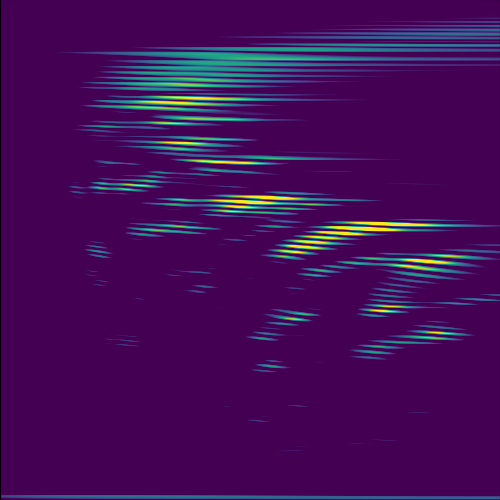semblance: (266, 215, 439, 260), (94, 89, 258, 127), (141, 135, 273, 169), (204, 185, 316, 219), (374, 249, 485, 282)
